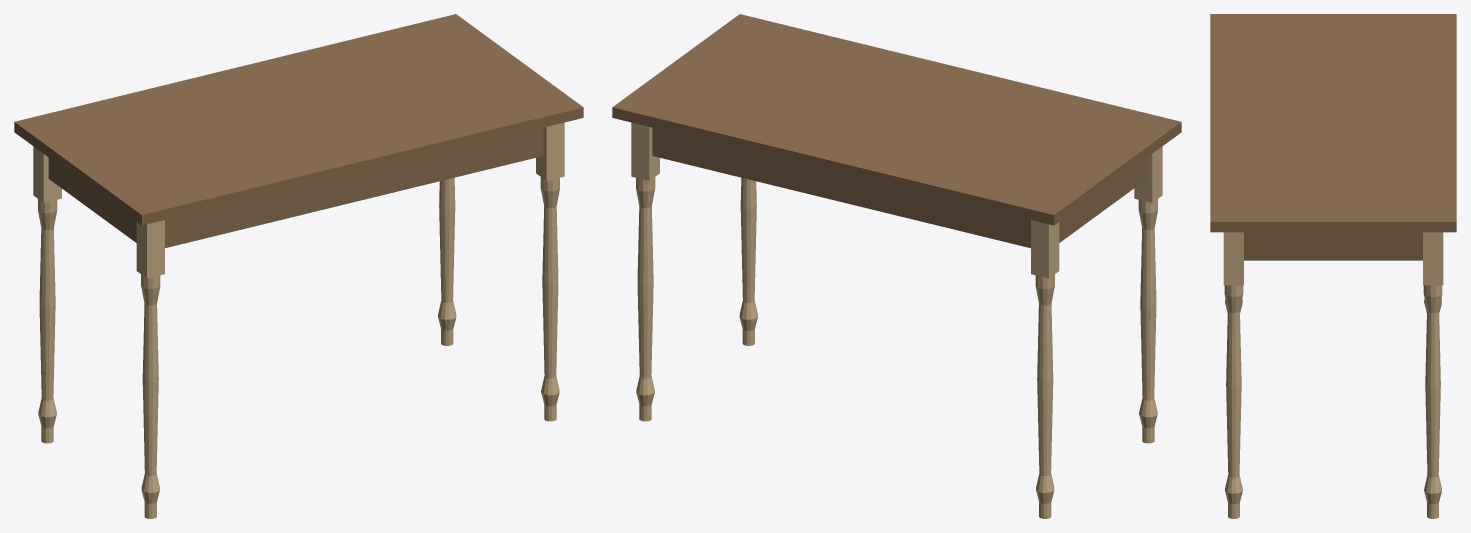
File: BIB-STT-std.glb
The picture shows the model from 3 angles, left to right: view 1: azimuth 30°, elevation 25°; view 2: azimuth 150°, elevation 25°; view 3: azimuth 270°, elevation 25°; orthographic projection. The views are drawn at different scales.
Visible parts, largest first — view 1: top:pbr, apron-f:pbr, leg-fl:pbr, leg-fr:pbr, leg-bl:pbr, leg-br:pbr, apron-l:pbr; view 2: top:pbr, apron-b:pbr, leg-bl:pbr, leg-br:pbr, leg-fl:pbr, leg-fr:pbr, apron-l:pbr; view 3: top:pbr, apron-r:pbr, leg-fr:pbr, leg-br:pbr.
Part boxes in pixels (<box>): top:pbr: <box>14,14,583,225</box>; apron-f:pbr: <box>165,127,543,248</box>; leg-fl:pbr: <box>136,220,164,518</box>; leg-fr:pbr: <box>536,122,564,421</box>; leg-bl:pbr: <box>33,146,61,443</box>; leg-br:pbr: <box>438,177,456,345</box>; apron-l:pbr: <box>48,158,136,242</box>; top:pbr: <box>612,14,1181,225</box>; apron-b:pbr: <box>652,127,1030,248</box>; leg-bl:pbr: <box>1031,220,1059,518</box>; leg-br:pbr: <box>631,122,659,421</box>; leg-fl:pbr: <box>1134,146,1162,443</box>; leg-fr:pbr: <box>739,177,757,345</box>; apron-l:pbr: <box>1059,158,1147,242</box>; top:pbr: <box>1210,14,1456,232</box>; apron-r:pbr: <box>1244,232,1422,260</box>; leg-fr:pbr: <box>1223,232,1243,518</box>; leg-br:pbr: <box>1423,232,1443,518</box>.
Size of the model in its own units: 1.1 by 0.75 by 0.55.
